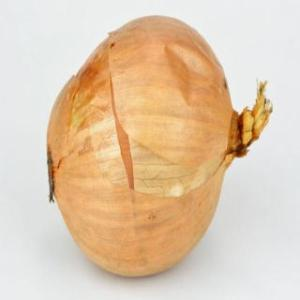onion: (47, 16, 272, 278)
